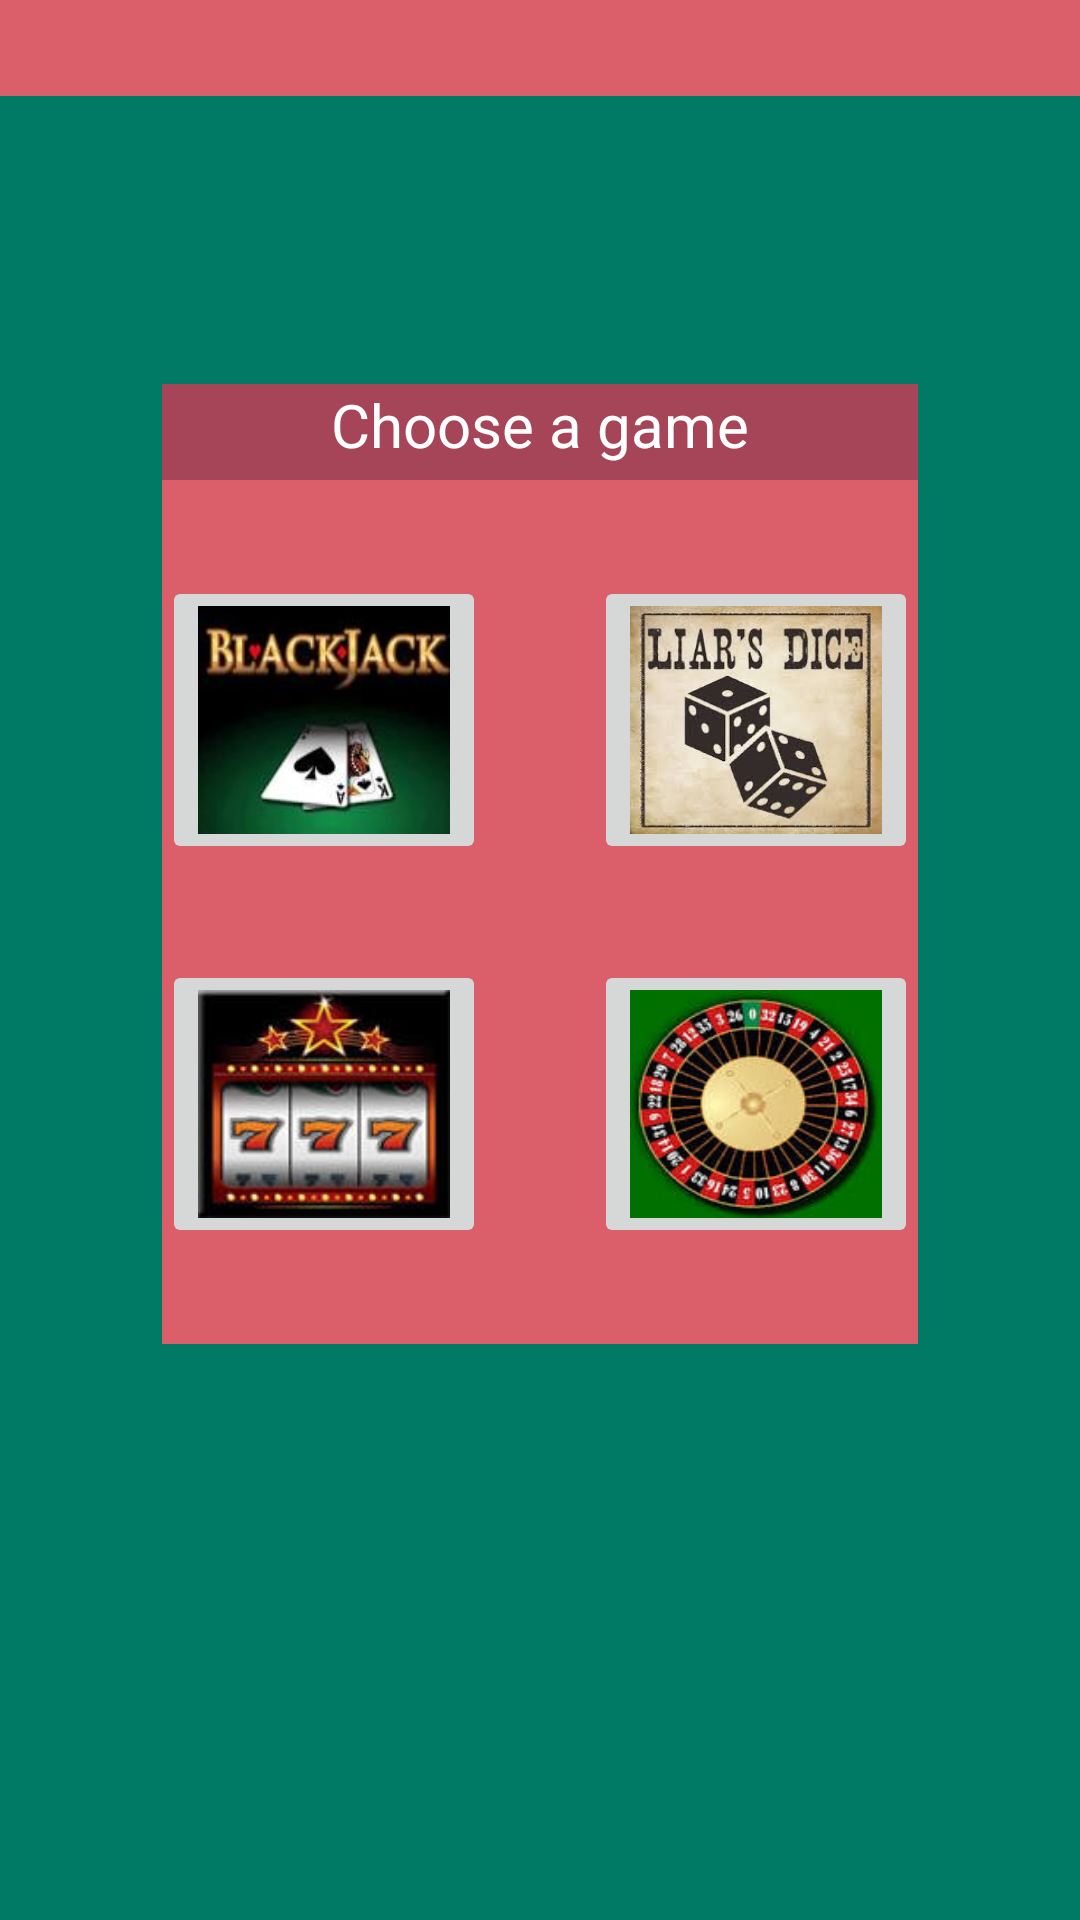

Icons on this 1080 x 1920 Android screen, each with the point to tap as [x,y]:
Poker dice mini game image button: [756,720]
Roulette mini game image button: [756,1104]
Slot machine mini game image button: [324,1104]
